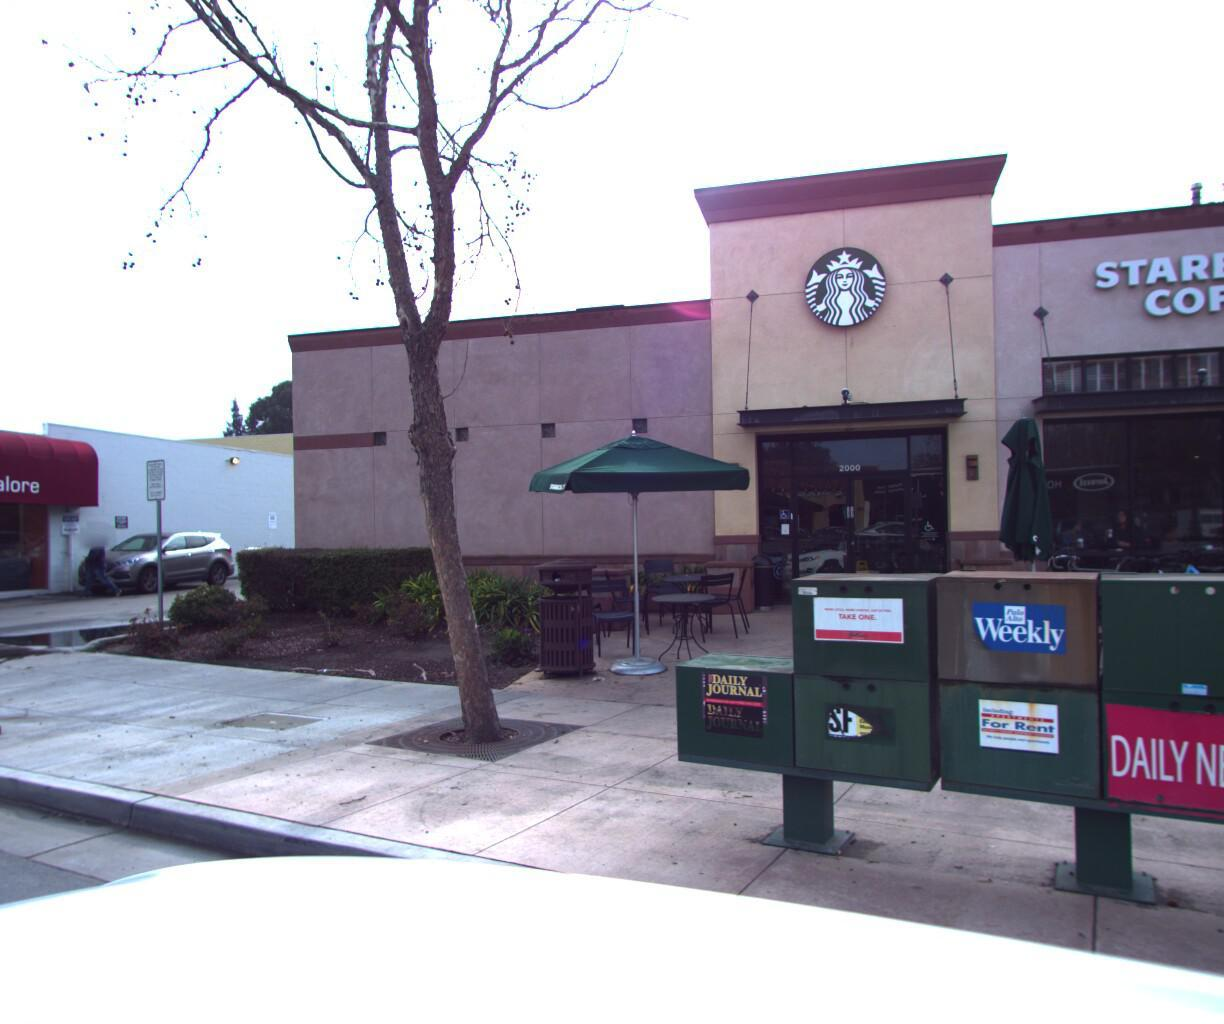bicycle: (1070, 534, 1224, 651), (1112, 533, 1224, 647)
